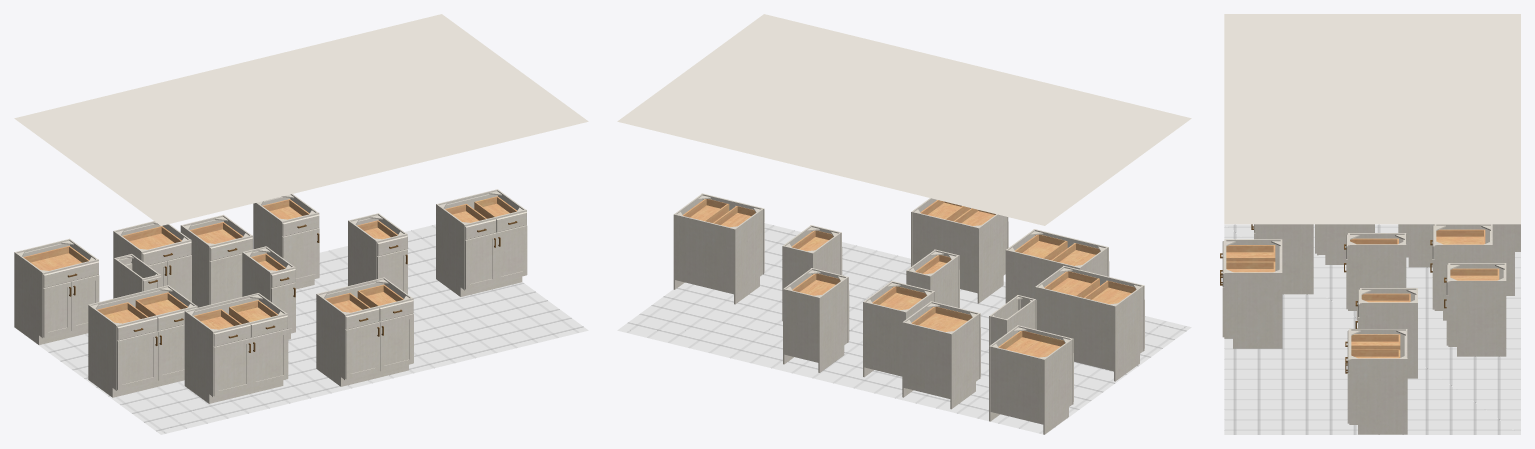
File: B_Cab.dae
The picture shows the model from 3 angles, left to right: view 1: azimuth 30°, elevation 25°; view 2: azimuth 150°, elevation 25°; view 3: azimuth 270°, elevation 25°; orthographic projection.
Parts seen in each view (by area): view 1: Ceiling, Floor, B39 (×4), B36 (×3), B27 (×4), B33 (×3), B30 (×3), B21L (×3), B18L (×2), B15L (×2), B12L, B09POL (+1 smaller); view 2: Ceiling, Floor, B39 (×2), B27 (×3), B30 (×2), B24 (×3), B33 (×2), B18L (×2), B21L, B36, B15L (×2), B12L (+1 smaller); view 3: Ceiling, Floor, B33 (×4), B30 (×4), B18L (×3), B12L (×3), B15L (×3), B21L (×4), B36, B39, B09POL, B24.
Part boxes in pixels (bbox=[...]): Ceiling: bbox=[14, 14, 588, 225]; Floor: bbox=[14, 224, 588, 434]; B39 (×4): bbox=[88, 304, 184, 397]; B36 (×3): bbox=[184, 310, 283, 403]; B27 (×4): bbox=[14, 252, 98, 344]; B33 (×3): bbox=[316, 293, 409, 386]; B30 (×3): bbox=[436, 204, 522, 296]; B21L (×3): bbox=[180, 225, 252, 307]; B18L (×2): bbox=[253, 202, 315, 278]; B15L (×2): bbox=[348, 220, 403, 290]; B12L: bbox=[242, 252, 270, 300]; B09POL: bbox=[114, 258, 142, 298]; Ceiling: bbox=[617, 14, 1191, 225]; Floor: bbox=[617, 223, 1191, 434]; B39 (×2): bbox=[1036, 286, 1143, 381]; B27 (×3): bbox=[990, 337, 1072, 434]; B30 (×2): bbox=[675, 209, 762, 304]; B24 (×3): bbox=[903, 313, 979, 409]; B33 (×2): bbox=[912, 211, 1006, 303]; B18L (×2): bbox=[784, 277, 847, 372]; B21L: bbox=[864, 301, 905, 376]; B36: bbox=[1007, 250, 1078, 302]; B15L (×2): bbox=[783, 232, 840, 288]; B12L: bbox=[929, 255, 958, 307]; Ceiling: bbox=[1224, 14, 1520, 224]; Floor: bbox=[1224, 224, 1520, 434]; B33 (×4): bbox=[1226, 239, 1282, 348]; B30 (×4): bbox=[1351, 329, 1407, 434]; B18L (×3): bbox=[1450, 263, 1506, 356]; B12L (×3): bbox=[1350, 233, 1406, 320]; B15L (×3): bbox=[1361, 288, 1417, 378]; B21L (×4): bbox=[1436, 224, 1492, 320]; B36: bbox=[1257, 224, 1313, 294]; B39: bbox=[1318, 224, 1374, 264]; B09POL: bbox=[1402, 224, 1434, 267]; B24: bbox=[1492, 224, 1514, 295].
Bounding box in the file's own units: 206 × 124 × 96.
Materials: 8 (6 with a texture image).
